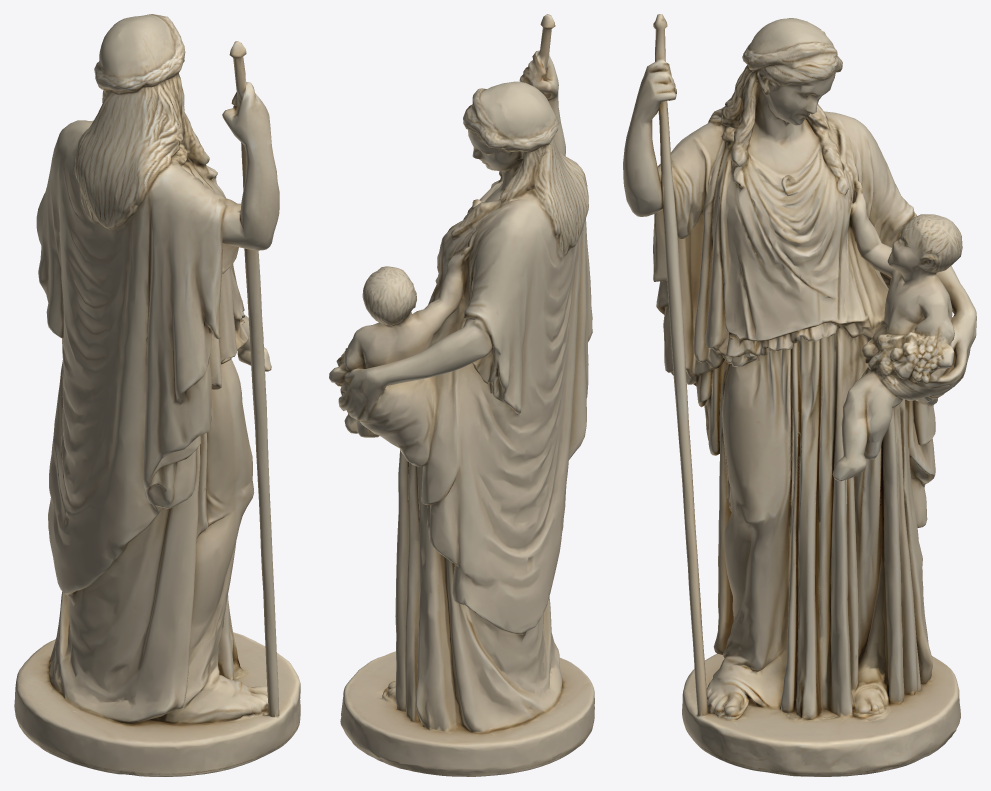
The model's file is hyp-1.glb.
The picture shows the model from 3 angles, left to right: view 1: azimuth 30°, elevation 25°; view 2: azimuth 150°, elevation 25°; view 3: azimuth 270°, elevation 25°; orthographic projection. The views are drawn at different scales.
Visible parts, largest first — view 1: tripo_node_f7b687be-af43-4fc9-9848-18331c5016d1; view 2: tripo_node_f7b687be-af43-4fc9-9848-18331c5016d1; view 3: tripo_node_f7b687be-af43-4fc9-9848-18331c5016d1.
Boxes of the visible parts, x1=… form: tripo_node_f7b687be-af43-4fc9-9848-18331c5016d1: x1=14, y1=14, x2=300, y2=776; tripo_node_f7b687be-af43-4fc9-9848-18331c5016d1: x1=329, y1=14, x2=594, y2=776; tripo_node_f7b687be-af43-4fc9-9848-18331c5016d1: x1=623, y1=14, x2=976, y2=776.
Size of the model in its own units: 0.3489 by 1 by 0.4548.
1 material, 1 textured.
